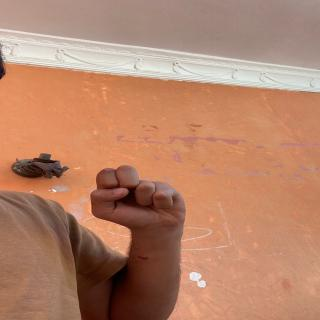QAAF: (67, 155, 217, 244)
